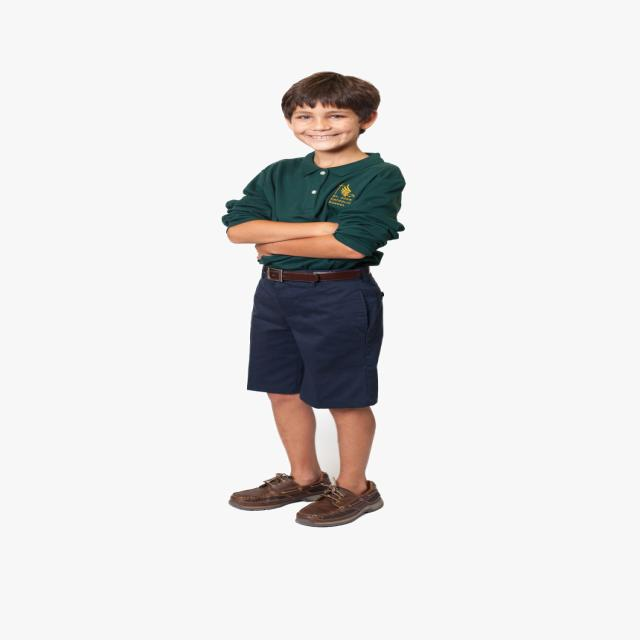child: (206, 56, 418, 547)
